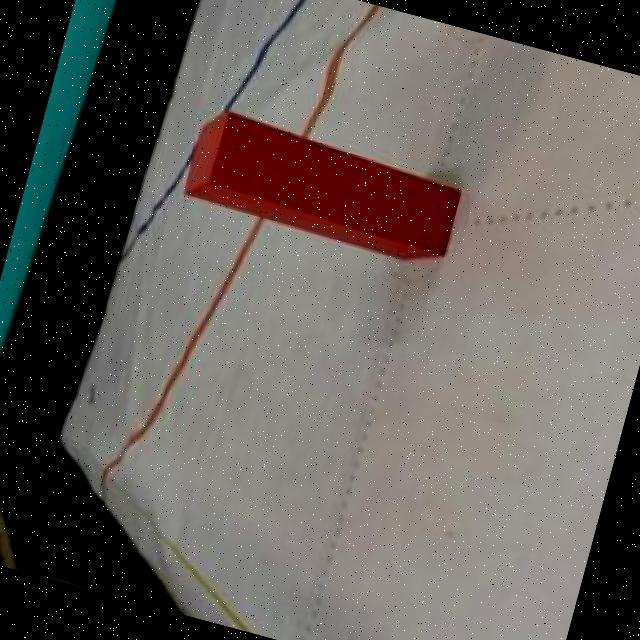redbox: (174, 103, 468, 270)
